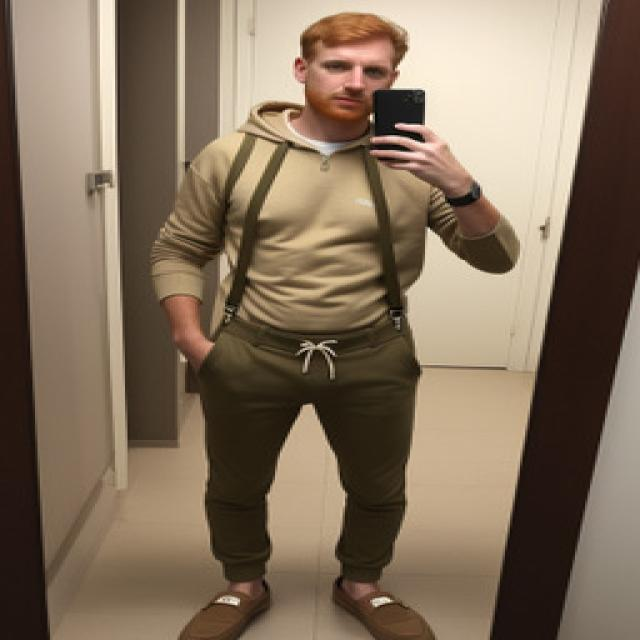Ai human 2: (137, 0, 521, 640)
